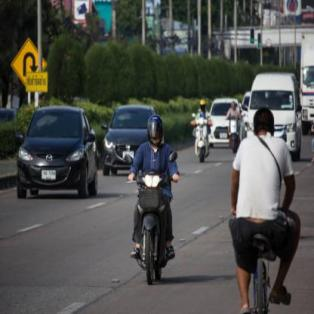Motocicleta: (132, 166, 171, 290), (190, 110, 212, 160)
